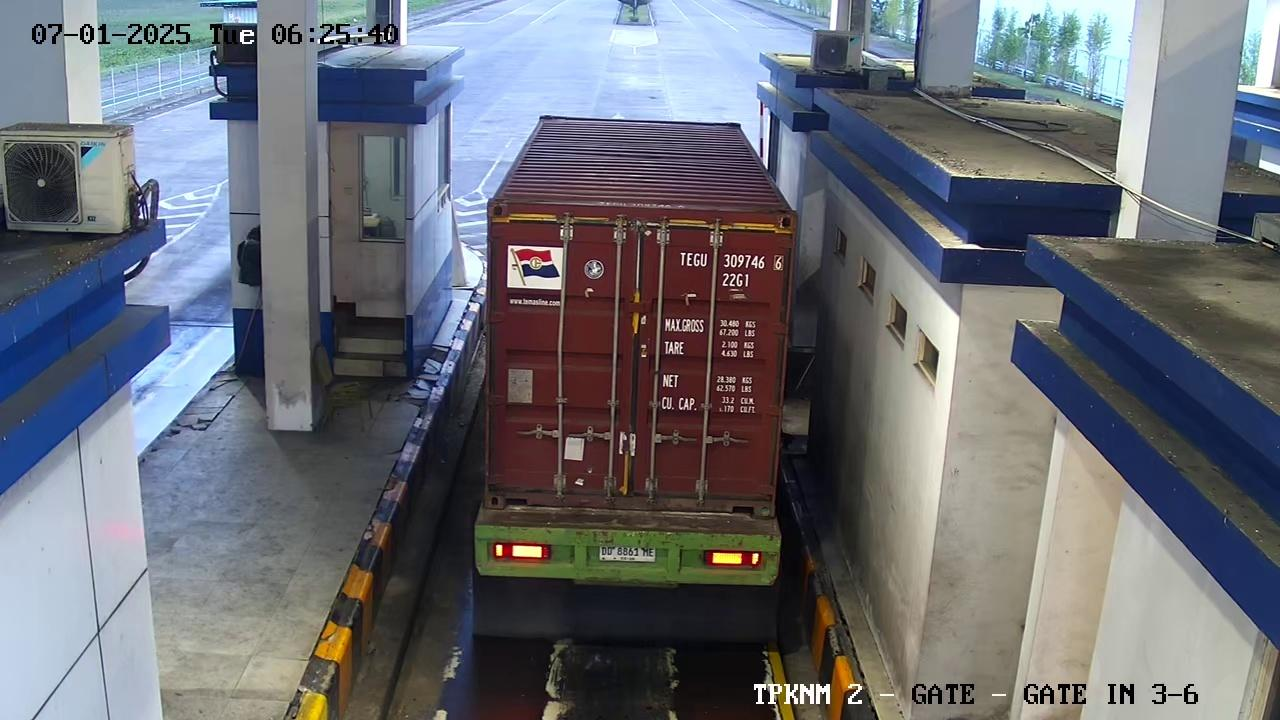Container_ID: (677, 245, 791, 276)
plate_number: (588, 537, 665, 570)
